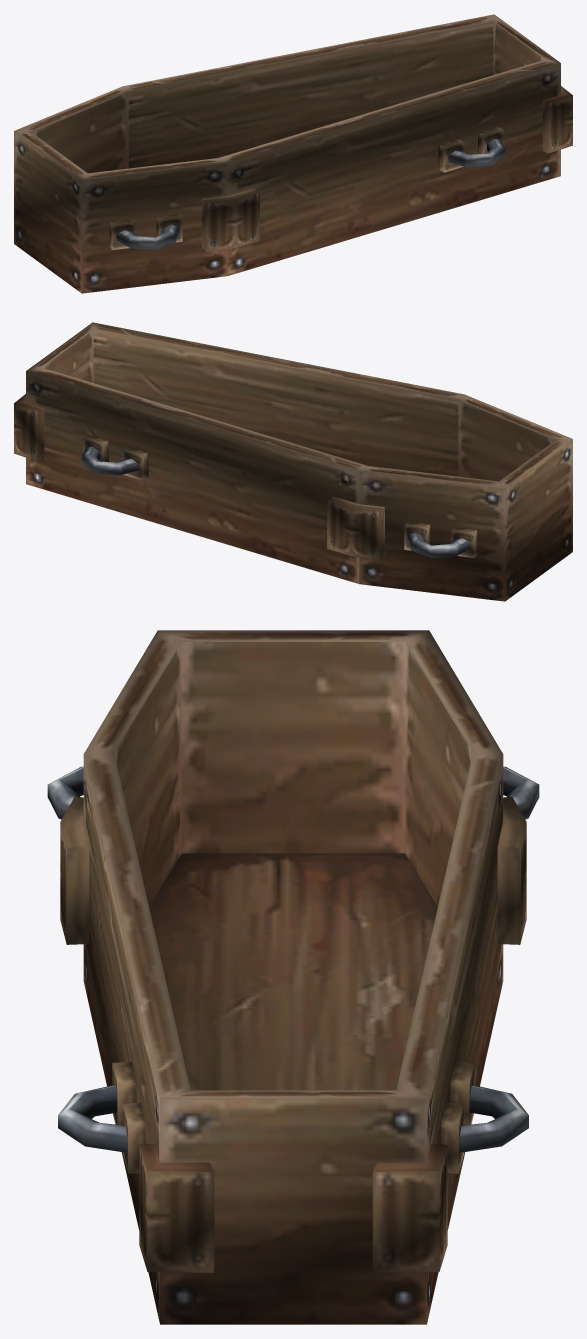
Rendered from coffin.obj.
The picture shows the model from 3 angles, top to bottom: view 1: azimuth 30°, elevation 25°; view 2: azimuth 150°, elevation 25°; view 3: azimuth 270°, elevation 25°; orthographic projection. The views are drawn at different scales.
Visible parts, largest first — view 1: COFFIN0; view 2: COFFIN0; view 3: COFFIN0.
Part boxes in pixels (x1,y1,x2,y2): COFFIN0: [14, 14, 572, 293]; COFFIN0: [14, 322, 572, 601]; COFFIN0: [47, 630, 539, 1324].
Bounding box in the file's own units: 2.84 × 0.6261 × 1.23.
1 material, 1 textured.
